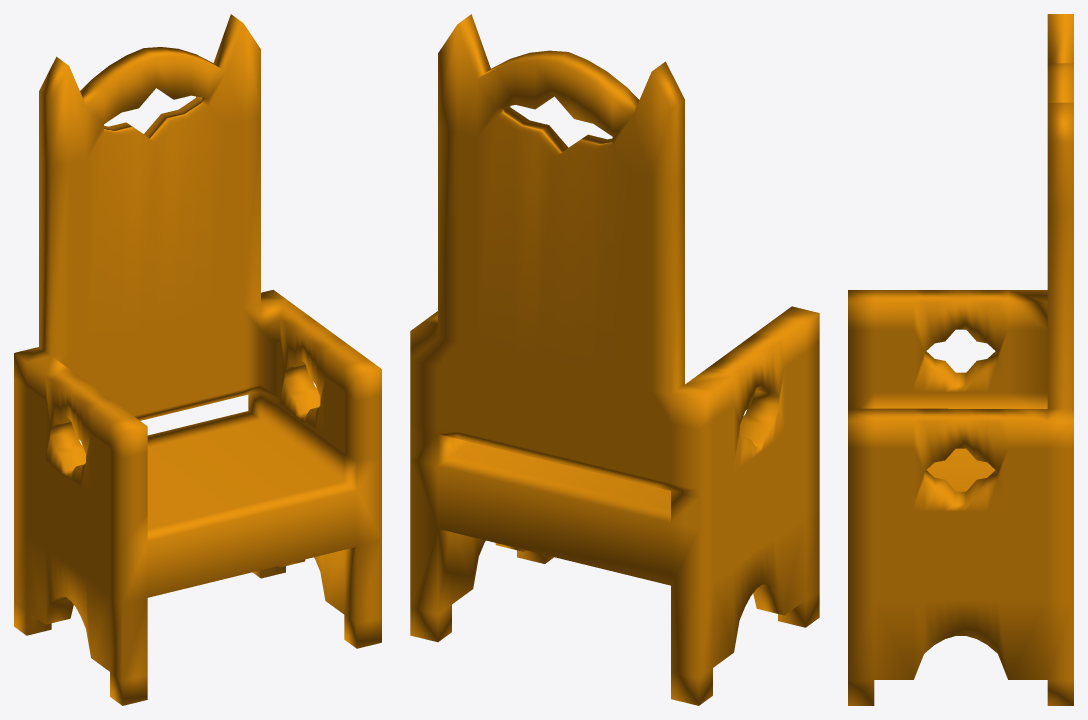
File: chair_low.fbx
3 views of the same model, side by side, from view 1: azimuth 30°, elevation 25°; view 2: azimuth 150°, elevation 25°; view 3: azimuth 270°, elevation 25° (orthographic). The views are drawn at different scales.
Parts seen in each view (by area): view 1: chair_low; view 2: chair_low; view 3: chair_low.
Boxes of the visible parts, x1,y1,x2,y2 form: chair_low: (14,14,381,705); chair_low: (410,14,819,705); chair_low: (848,14,1073,705).
Size of the model in its own units: 1.12 by 2.3 by 0.8093.
